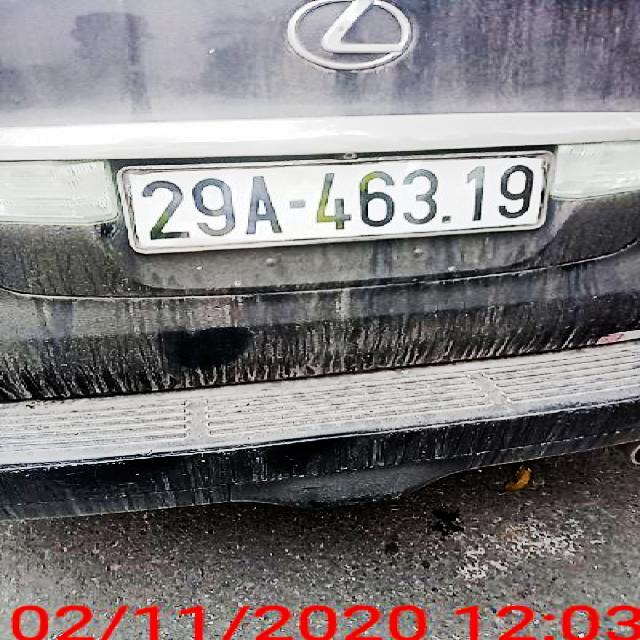license_plate: (121, 156, 550, 251)
